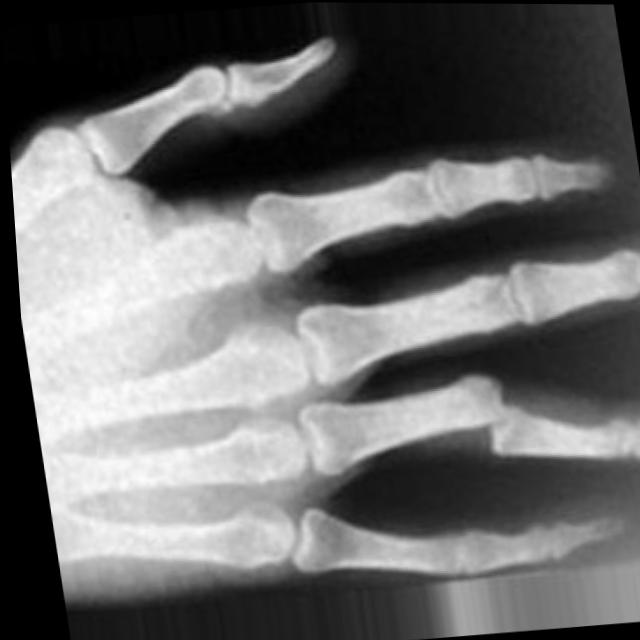fracture: (458, 363, 527, 465)
